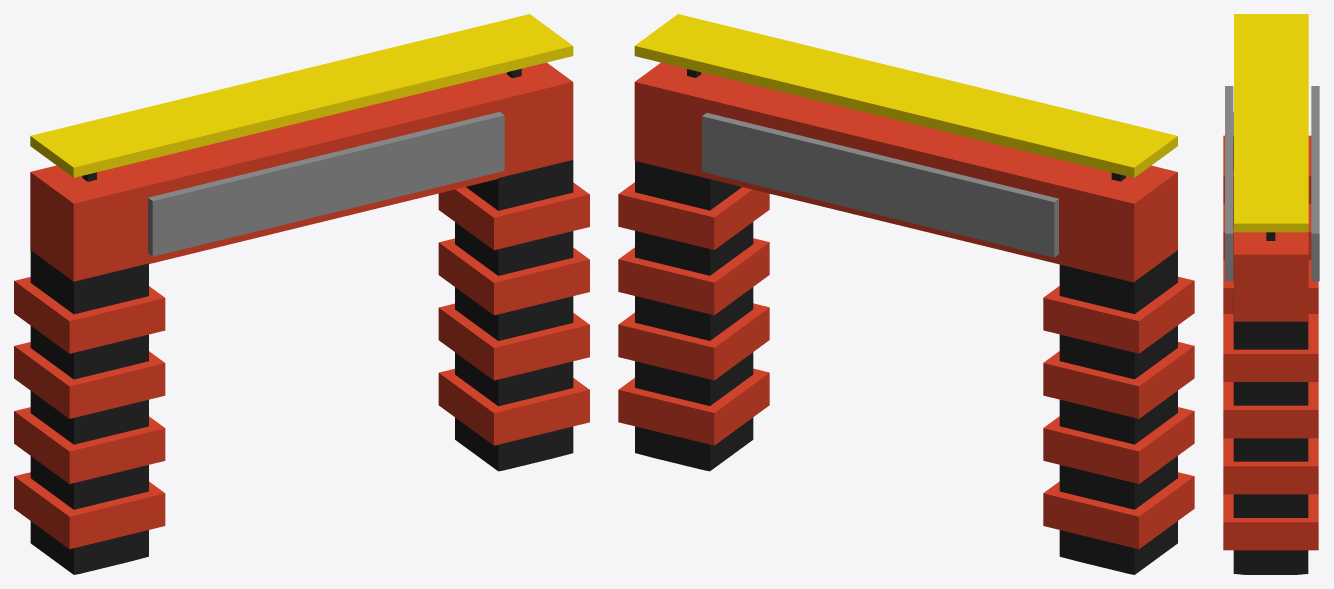
File: Finish Line.fbx
3 renders of one model, left to right at view 1: azimuth 30°, elevation 25°; view 2: azimuth 150°, elevation 25°; view 3: azimuth 270°, elevation 25°, orthographic. The views are drawn at different scales.
Parts seen in each view (by area): view 1: Cube, Cube.001, Cube.003, Cube.004; view 2: Cube, Cube.001, Cube.003, Cube.005; view 3: Cube, Cube.003, Cube.001, Cube.005, Cube.004.
Part boxes in pixels (<box>): Cube: <box>14,160,589,574</box>; Cube.001: <box>30,62,573,281</box>; Cube.003: <box>30,14,573,177</box>; Cube.004: <box>148,112,504,256</box>; Cube: <box>618,161,1194,574</box>; Cube.001: <box>634,62,1177,282</box>; Cube.003: <box>634,14,1177,177</box>; Cube.005: <box>702,113,1058,257</box>; Cube: <box>1223,112,1318,574</box>; Cube.003: <box>1234,14,1308,232</box>; Cube.001: <box>1234,232,1308,321</box>; Cube.005: <box>1311,86,1319,281</box>; Cube.004: <box>1225,86,1233,281</box>.
Bounding box in the file's own units: 1382 × 1052 × 258.
